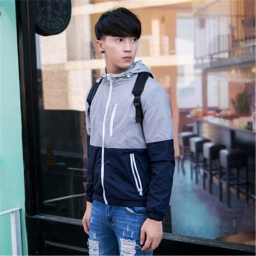face: (96, 7, 139, 69)
